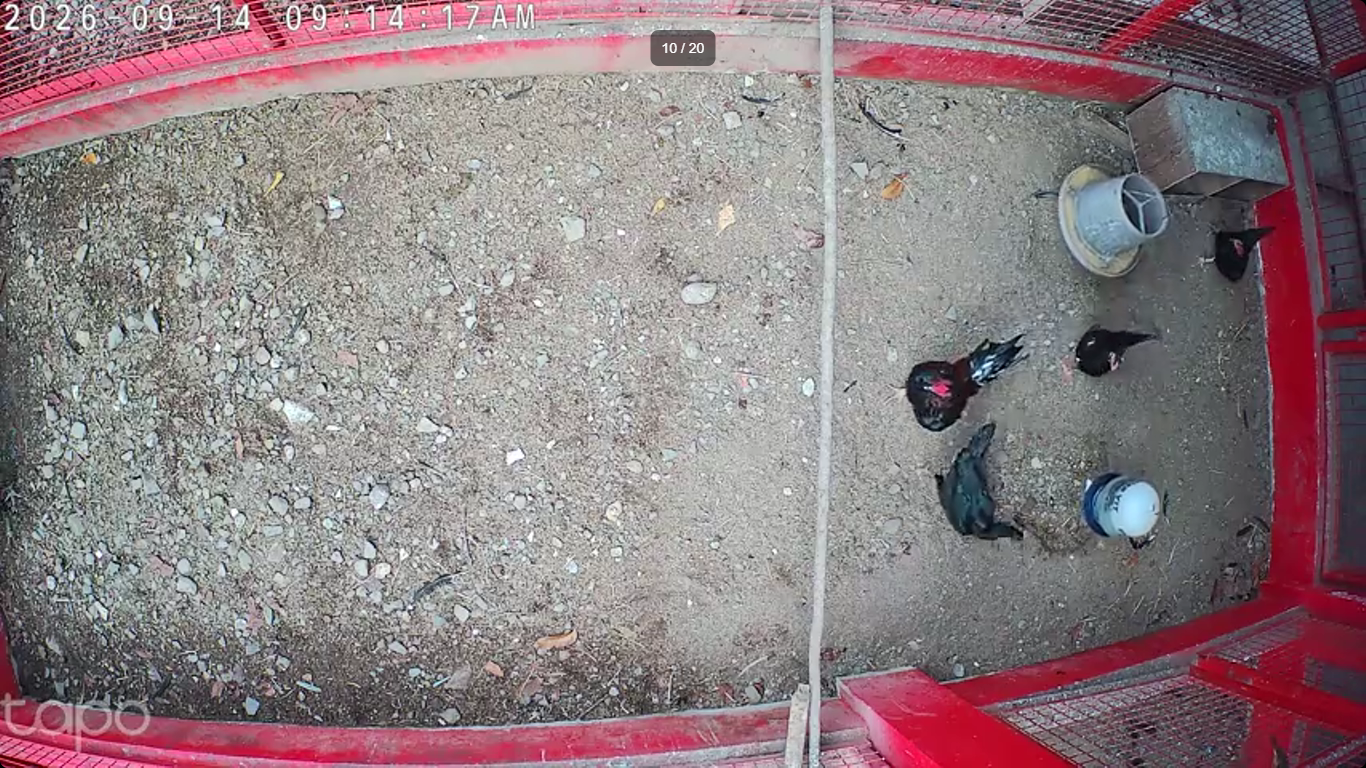Chicken: (932, 417, 1032, 548)
Rooster: (883, 332, 1029, 435)
